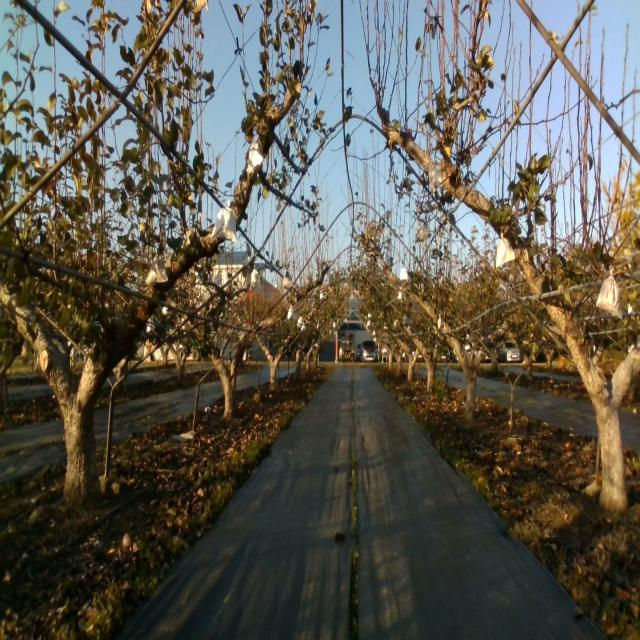pearbags: (595, 270, 623, 323), (211, 200, 237, 242), (495, 230, 516, 268), (146, 254, 170, 284), (248, 138, 264, 175), (428, 160, 444, 194)
